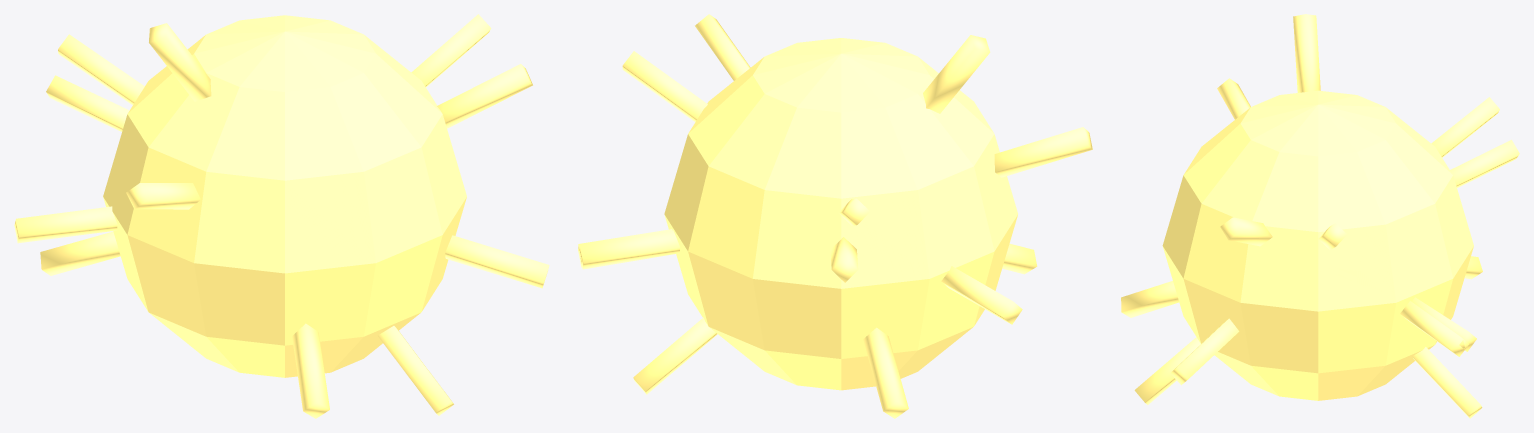
The model's file is pollen.glb.
3 views of the same model, side by side, from view 1: azimuth 30°, elevation 25°; view 2: azimuth 150°, elevation 25°; view 3: azimuth 270°, elevation 25° (orthographic). The views are drawn at different scales.
Visible parts, largest first — view 1: Pollen; view 2: Pollen; view 3: Pollen.
Boxes of the visible parts, x1,y1,x2,y2 form: Pollen: (14, 14, 549, 418); Pollen: (578, 14, 1092, 418); Pollen: (1121, 14, 1519, 418).
Size of the model in its own units: 0.4471 by 0.3633 by 0.4098.
